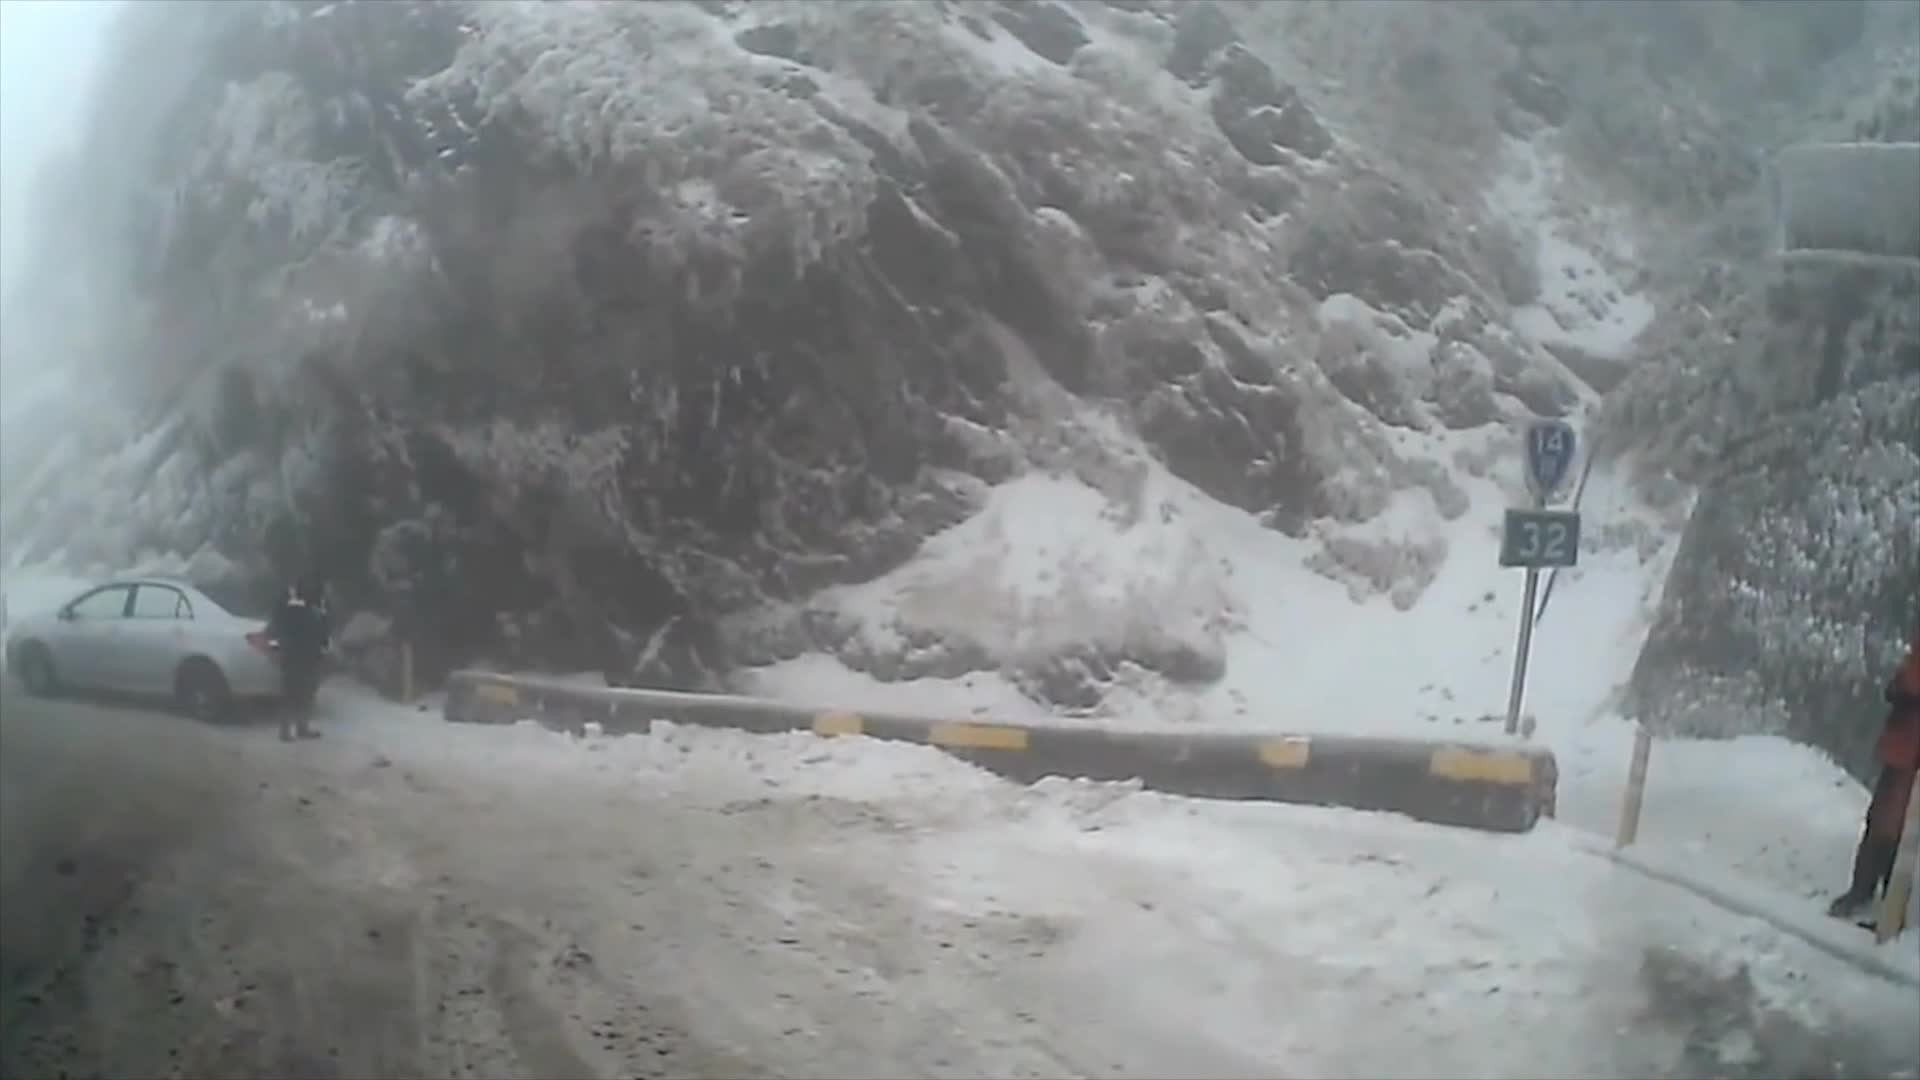pedestrian: (1835, 504, 1920, 944), (268, 561, 332, 739)
vehicle: (6, 571, 314, 721)
